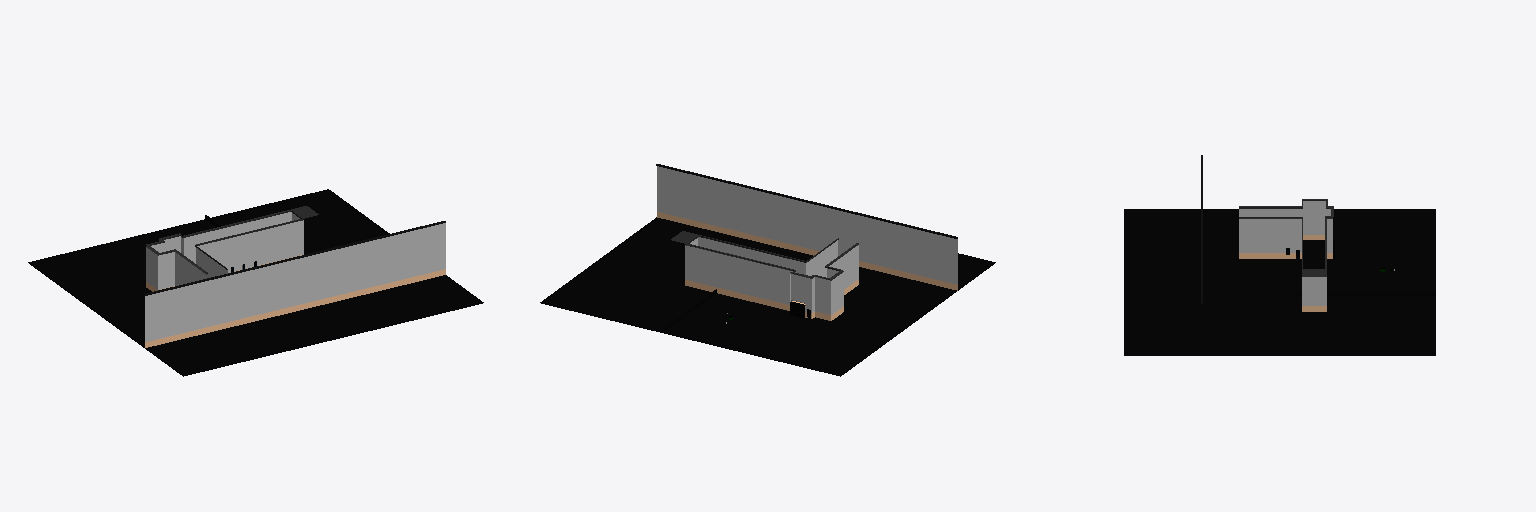
Rendered from TutorialMap.obj.
The picture shows the model from 3 angles: view 1: azimuth 30°, elevation 25°; view 2: azimuth 150°, elevation 25°; view 3: azimuth 270°, elevation 25°; orthographic projection.
Parts seen in each view (by area): view 1: Plane_Plane.003, Cube.003_Cube.002; view 2: Plane_Plane.003, Cube.003_Cube.002; view 3: Plane_Plane.003, Cube.003_Cube.002.
Boxes of the visible parts, x1=… form: Plane_Plane.003: x1=28, y1=189, x2=483, y2=376; Cube.003_Cube.002: x1=146, y1=206, x2=318, y2=291; Plane_Plane.003: x1=540, y1=164, x2=995, y2=376; Cube.003_Cube.002: x1=671, y1=231, x2=858, y2=320; Plane_Plane.003: x1=1124, y1=155, x2=1435, y2=355; Cube.003_Cube.002: x1=1239, y1=199, x2=1334, y2=311.
Size of the model in its own units: 60.34 by 10.32 by 54.05.